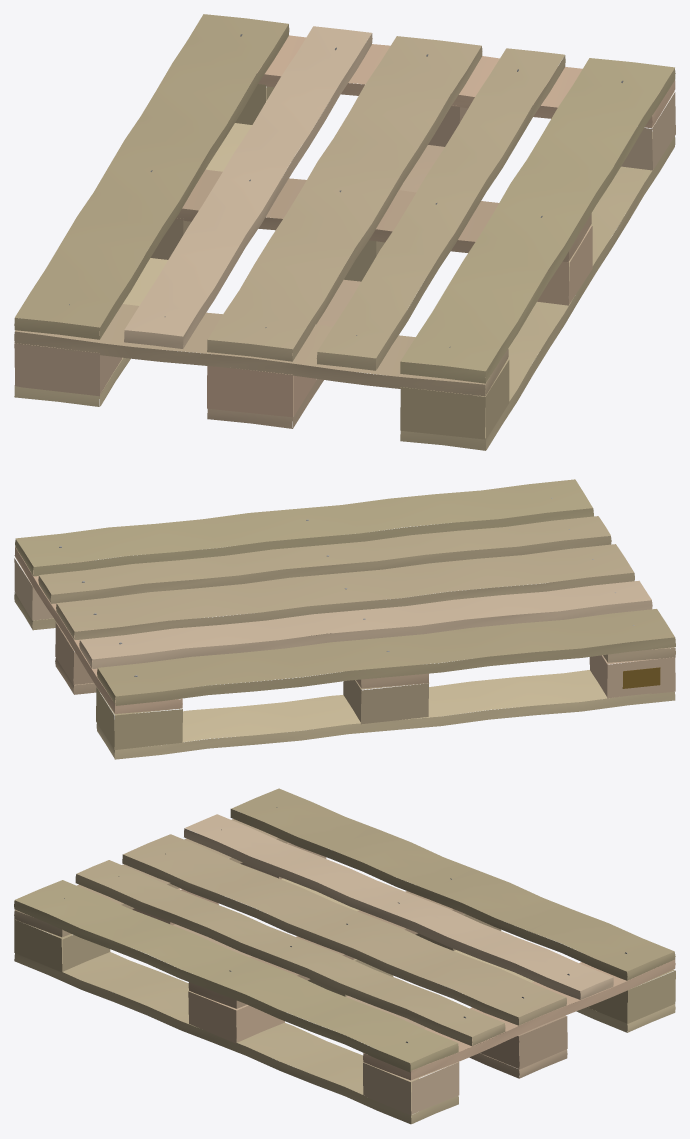
The model's file is wood-pallet.gltf.
3 renders of one model, top to bottom at view 1: azimuth 30°, elevation 25°; view 2: azimuth 150°, elevation 25°; view 3: azimuth 270°, elevation 25°, orthographic. The views are drawn at different scales.
Bounding box in the file's own units: 1.42 × 0.1584 × 1.42.
